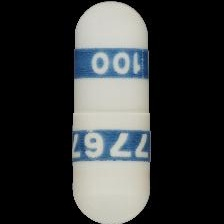63629-3301: (0, 0, 224, 224)
